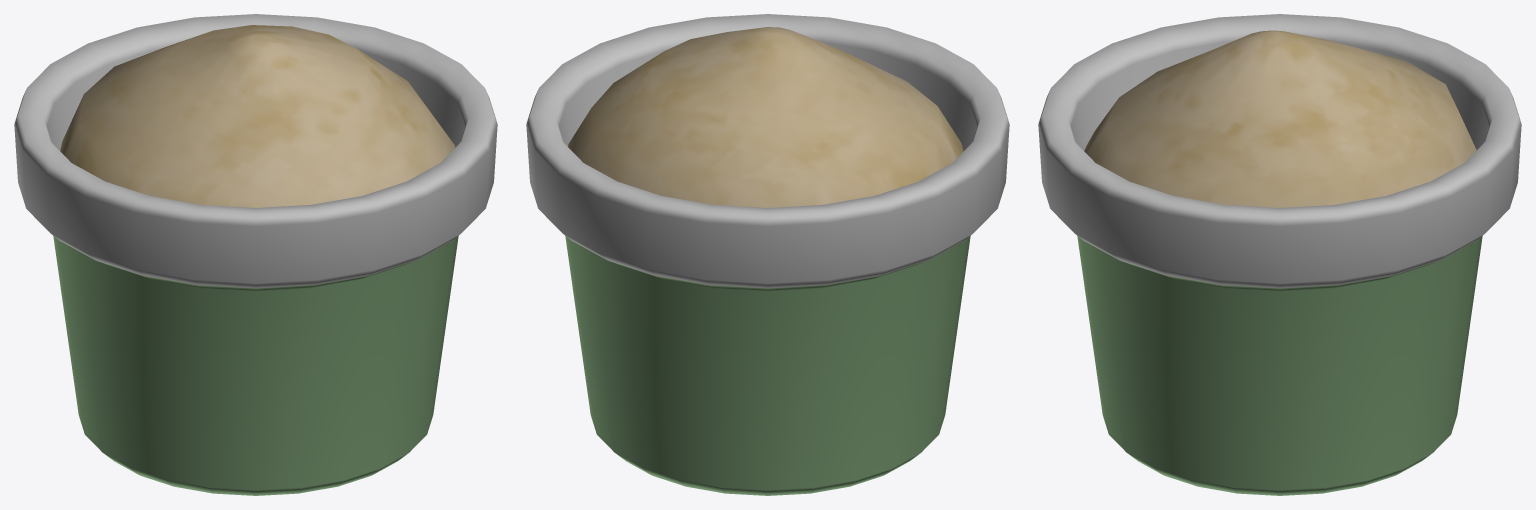
The model's file is pi_cocotteplate02_horseradish01.gltf.
The picture shows the model from 3 angles, left to right: view 1: azimuth 30°, elevation 25°; view 2: azimuth 150°, elevation 25°; view 3: azimuth 270°, elevation 25°; orthographic projection.
Visible parts, largest first — view 1: um_pi_cocotteplate02_horseradish01_model_pi_cocotteplate02_h (×2); view 2: um_pi_cocotteplate02_horseradish01_model_pi_cocotteplate02_h (×2); view 3: um_pi_cocotteplate02_horseradish01_model_pi_cocotteplate02_h (×2).
Part boxes in pixels (x1,y1,x2,y2): um_pi_cocotteplate02_horseradish01_model_pi_cocotteplate02_h (×2): [14, 14, 497, 495]; um_pi_cocotteplate02_horseradish01_model_pi_cocotteplate02_h (×2): [526, 14, 1009, 495]; um_pi_cocotteplate02_horseradish01_model_pi_cocotteplate02_h (×2): [1038, 14, 1521, 495].
Bounding box in the file's own units: 0.0797 × 0.0717 × 0.0797.
Materials: 2 (2 with a texture image).
